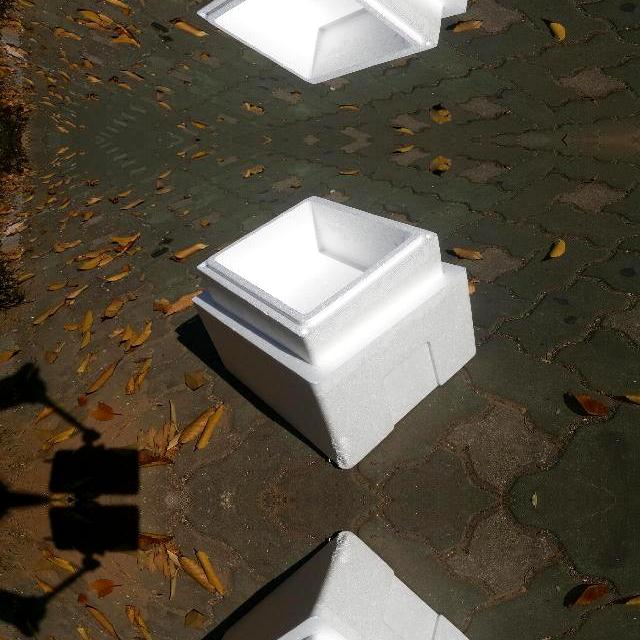Styrofoam: (189, 263, 476, 469), (194, 263, 477, 469), (198, 193, 444, 365), (198, 196, 444, 364), (189, 531, 476, 640), (222, 531, 470, 640), (198, 0, 443, 87), (198, 0, 444, 84)
